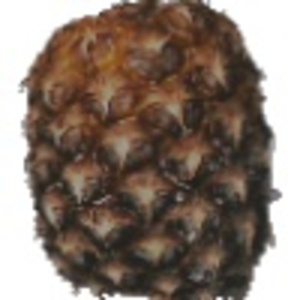abacaxi: (15, 3, 284, 292)
